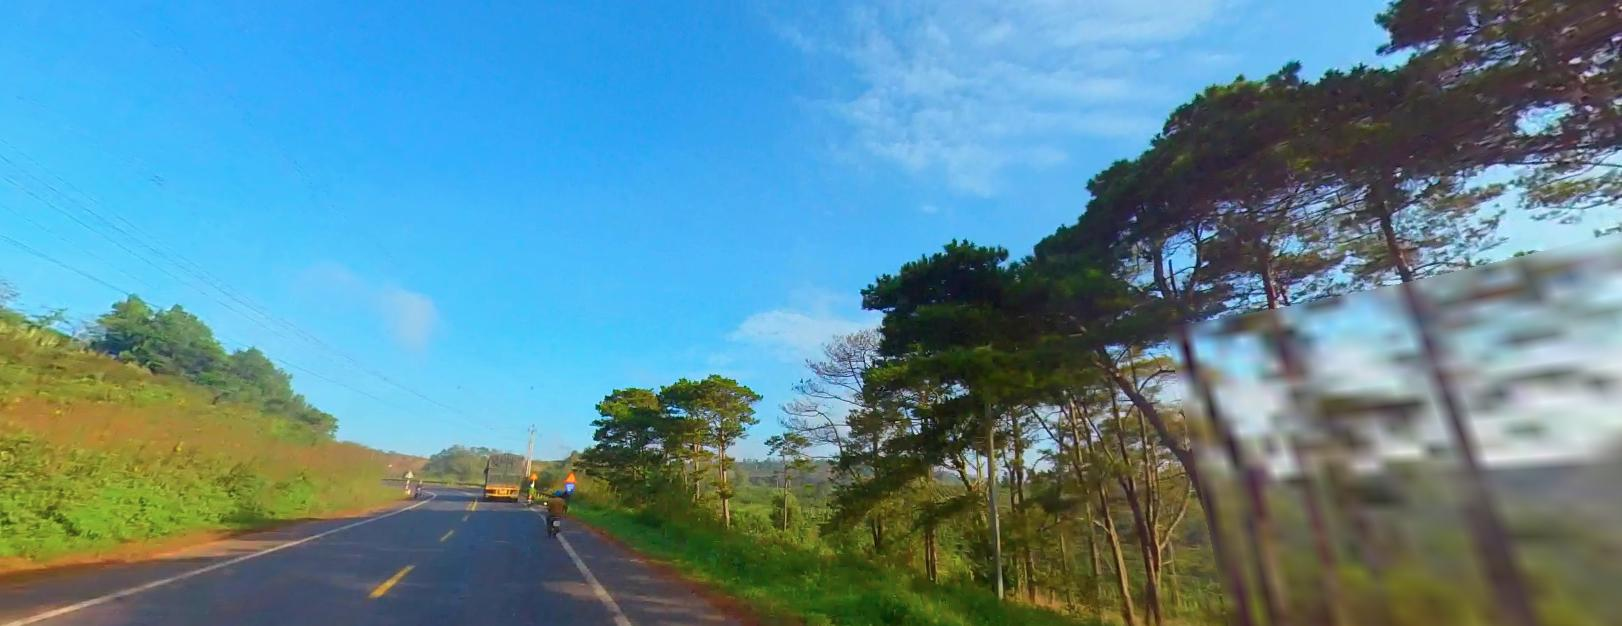Nguy hiem: (564, 470, 577, 482), (529, 471, 537, 478)
